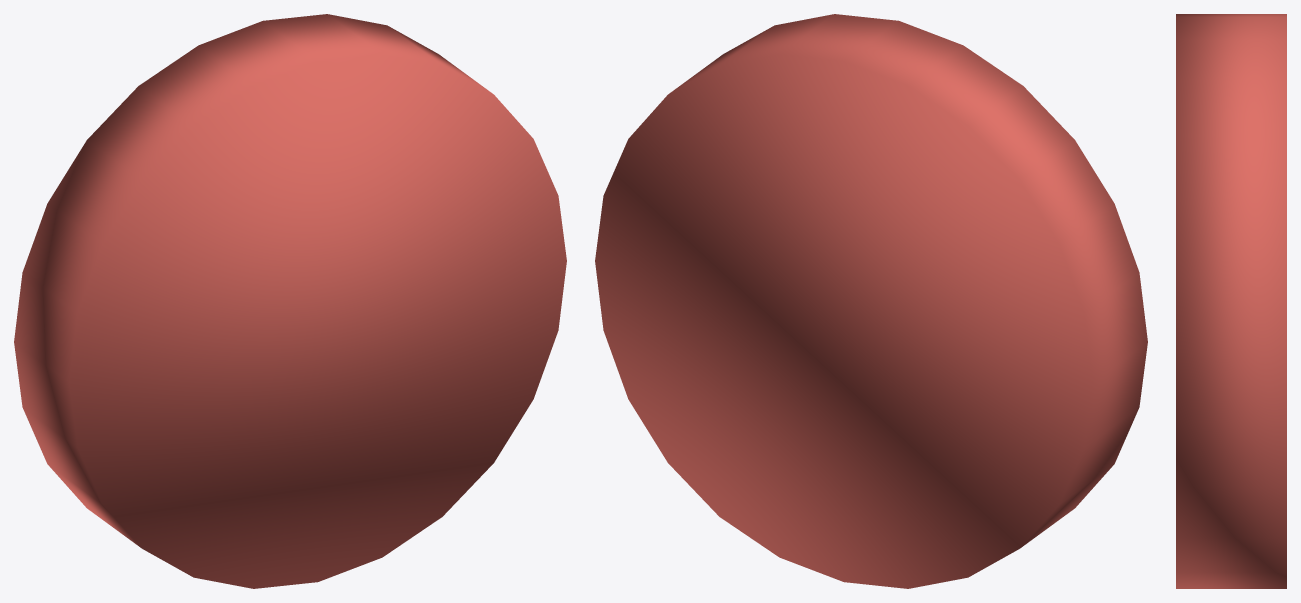
The model's file is shape-circle-red.glb.
3 views of the same model, side by side, from view 1: azimuth 30°, elevation 25°; view 2: azimuth 150°, elevation 25°; view 3: azimuth 270°, elevation 25° (orthographic).
Parts seen in each view (by area): view 1: solid circle; view 2: solid circle; view 3: solid circle.
Boxes of the visible parts, <box> form: solid circle: <box>14,14,566,588</box>; solid circle: <box>595,14,1147,588</box>; solid circle: <box>1176,14,1286,588</box>.
Size of the model in its own units: 1.3 by 1.3 by 0.25.
